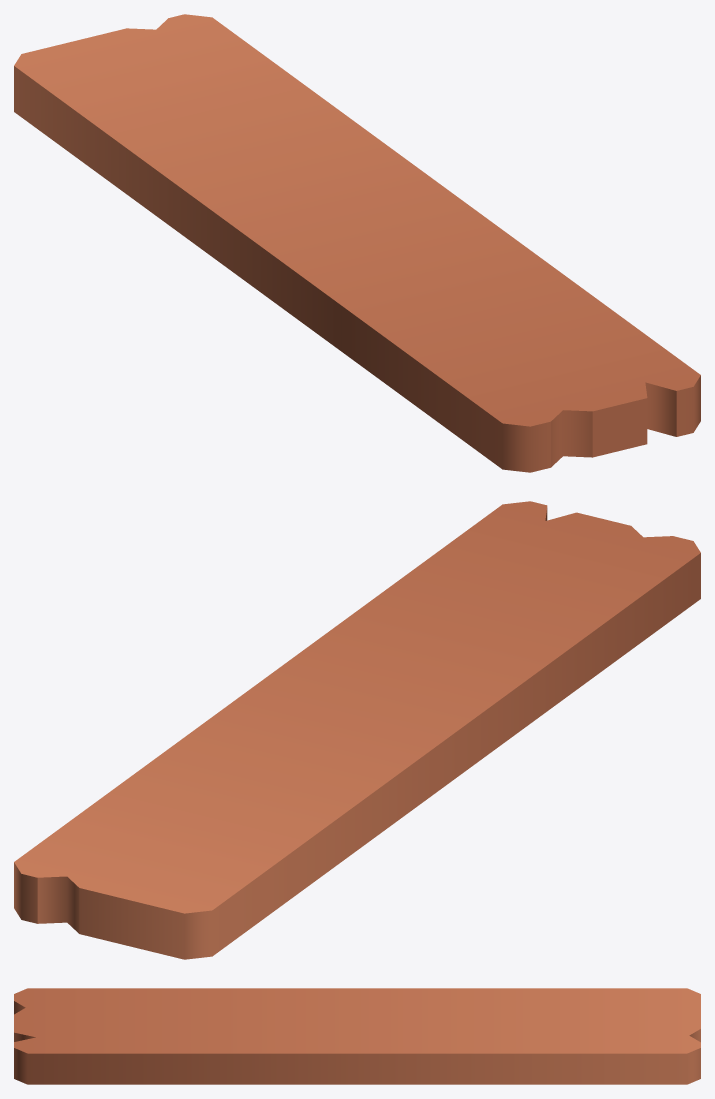
Rendered from plank.fbx.
3 views of the same model, one above another, from view 1: azimuth 30°, elevation 25°; view 2: azimuth 150°, elevation 25°; view 3: azimuth 270°, elevation 25° (orthographic). The views are drawn at different scales.
Parts seen in each view (by area): view 1: plank; view 2: plank; view 3: plank.
Boxes of the visible parts, <box> form: plank: <box>14,14,700,472</box>; plank: <box>14,501,700,959</box>; plank: <box>14,988,700,1084</box>.
Size of the model in its own units: 22.5 by 5 by 100.
1 material, 1 textured.
